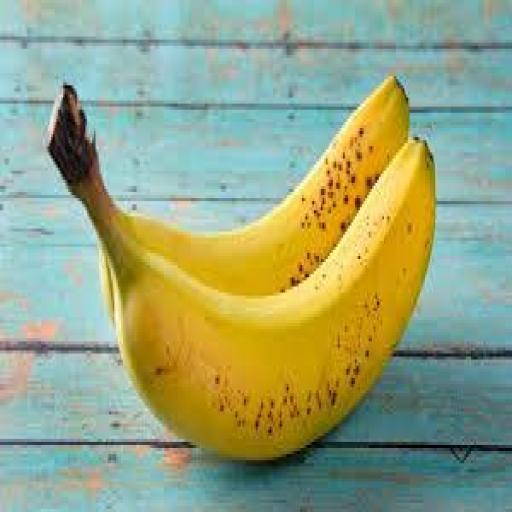banana: (50, 92, 435, 460), (123, 77, 409, 295)
